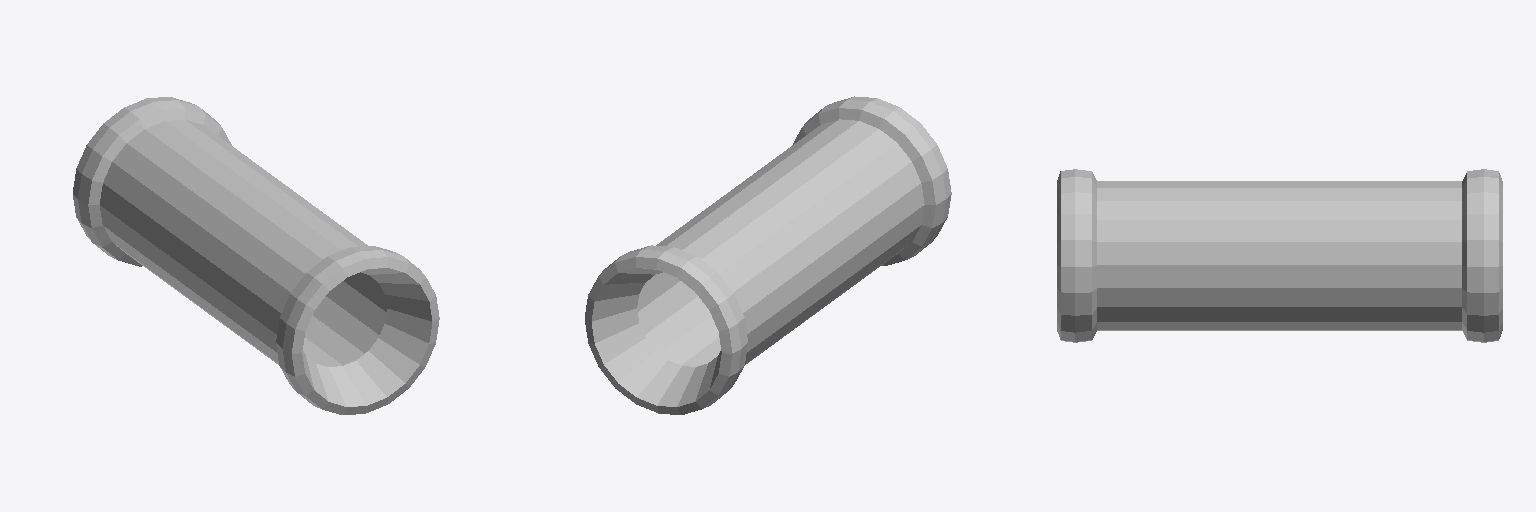
File: PuzzlePieceStraight.obj
The picture shows the model from 3 angles: view 1: azimuth 30°, elevation 25°; view 2: azimuth 150°, elevation 25°; view 3: azimuth 270°, elevation 25°; orthographic projection.
Parts seen in each view (by area): view 1: PuzzlePieceStraight group1; view 2: PuzzlePieceStraight group1; view 3: PuzzlePieceStraight group1.
Part boxes in pixels (left/top/right/bottom): PuzzlePieceStraight group1: left=73, top=97, right=439, bottom=414; PuzzlePieceStraight group1: left=585, top=96, right=951, bottom=414; PuzzlePieceStraight group1: left=1057, top=169, right=1502, bottom=342.
Size of the model in its own units: 39.3 by 39.3 by 100.